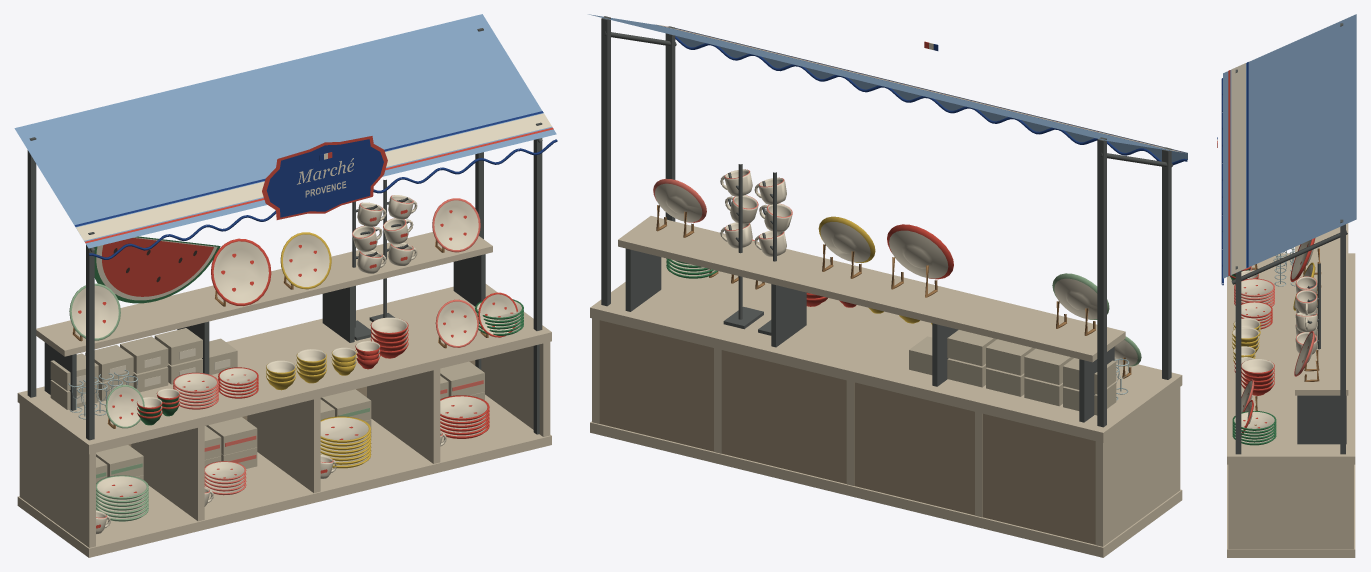
The model's file is provence.glb.
3 views of the same model, side by side, from view 1: azimuth 30°, elevation 25°; view 2: azimuth 150°, elevation 25°; view 3: azimuth 270°, elevation 25° (orthographic). The views are drawn at different scales.
Parts seen in each view (by area): view 1: Surface; view 2: Surface; view 3: Surface.
Part boxes in pixels (x1=…): Surface: x1=14, y1=14, x2=557, y2=557; Surface: x1=588, y1=14, x2=1187, y2=557; Surface: x1=1217, y1=14, x2=1356, y2=557.
Size of the model in its own units: 3.64 by 2.81 by 1.04.
